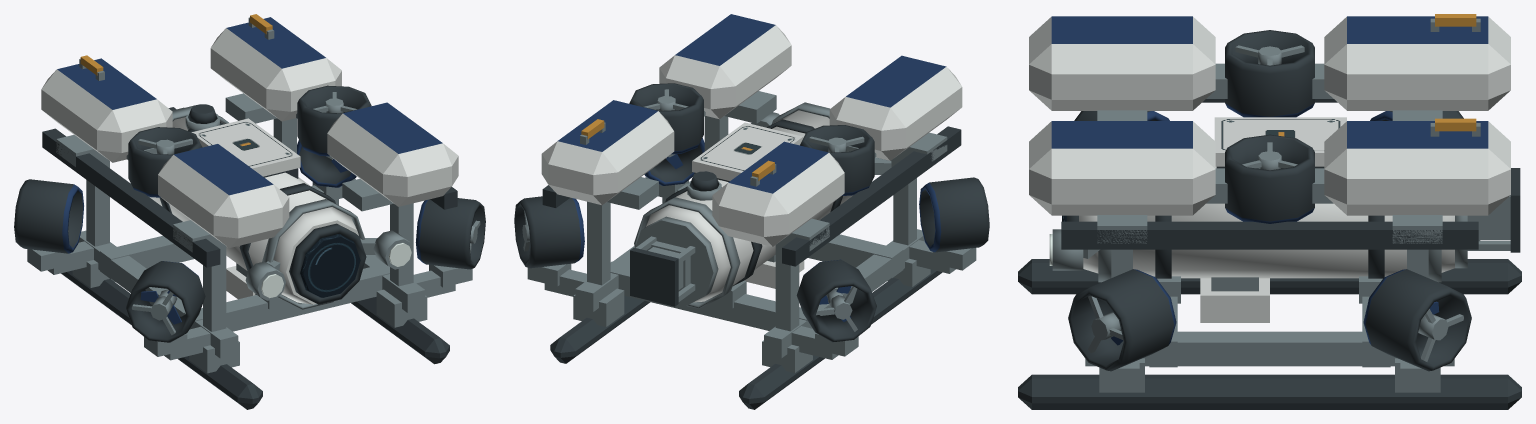
Rendered from Aquatic_Rover_LOD1.glb.
The picture shows the model from 3 angles, left to right: view 1: azimuth 30°, elevation 25°; view 2: azimuth 150°, elevation 25°; view 3: azimuth 270°, elevation 25°; orthographic projection. The views are drawn at different scales.
Visible parts, largest first — view 1: AquaticRover_LOD1; view 2: AquaticRover_LOD1; view 3: AquaticRover_LOD1.
Part boxes in pixels (left/top/right/bottom): AquaticRover_LOD1: left=14, top=14, right=485, bottom=409; AquaticRover_LOD1: left=514, top=14, right=989, bottom=409; AquaticRover_LOD1: left=1018, top=14, right=1521, bottom=409.
Size of the model in its own units: 2.42 by 1.43 by 2.32.
Materials: 1 (1 with a texture image).
